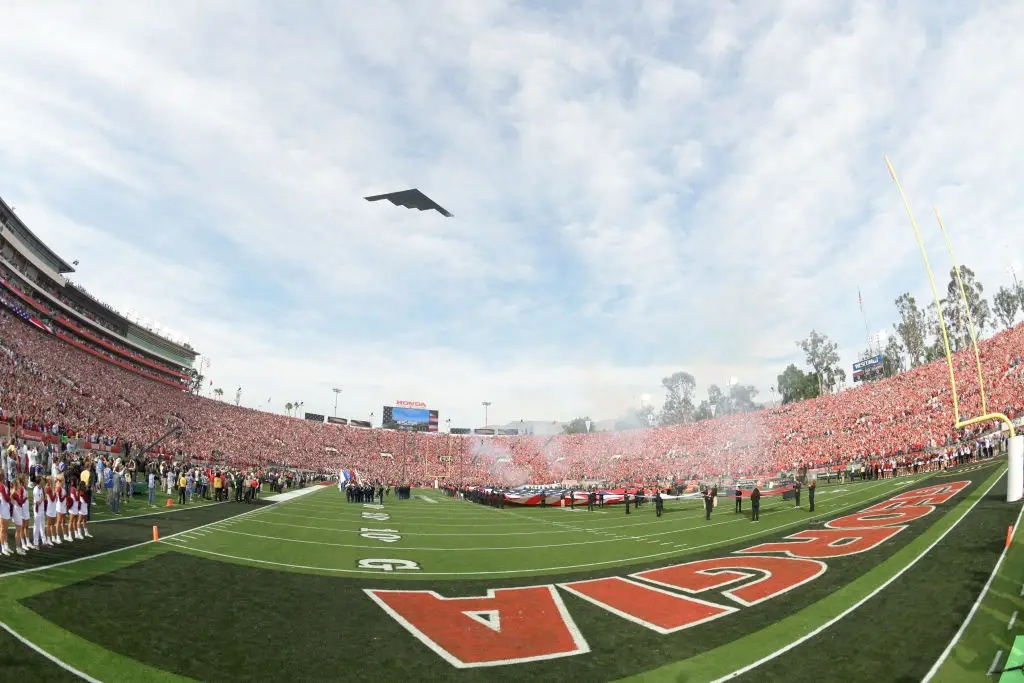B2: (362, 188, 455, 218)
